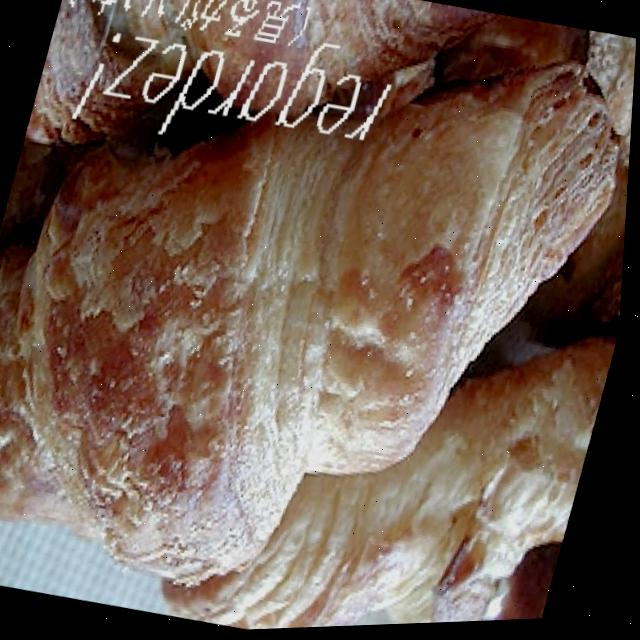面包点心: (0, 97, 635, 640)
